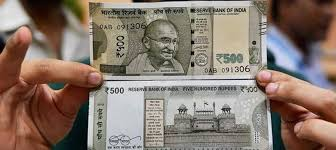fiveHundred: (98, 16, 253, 72)
